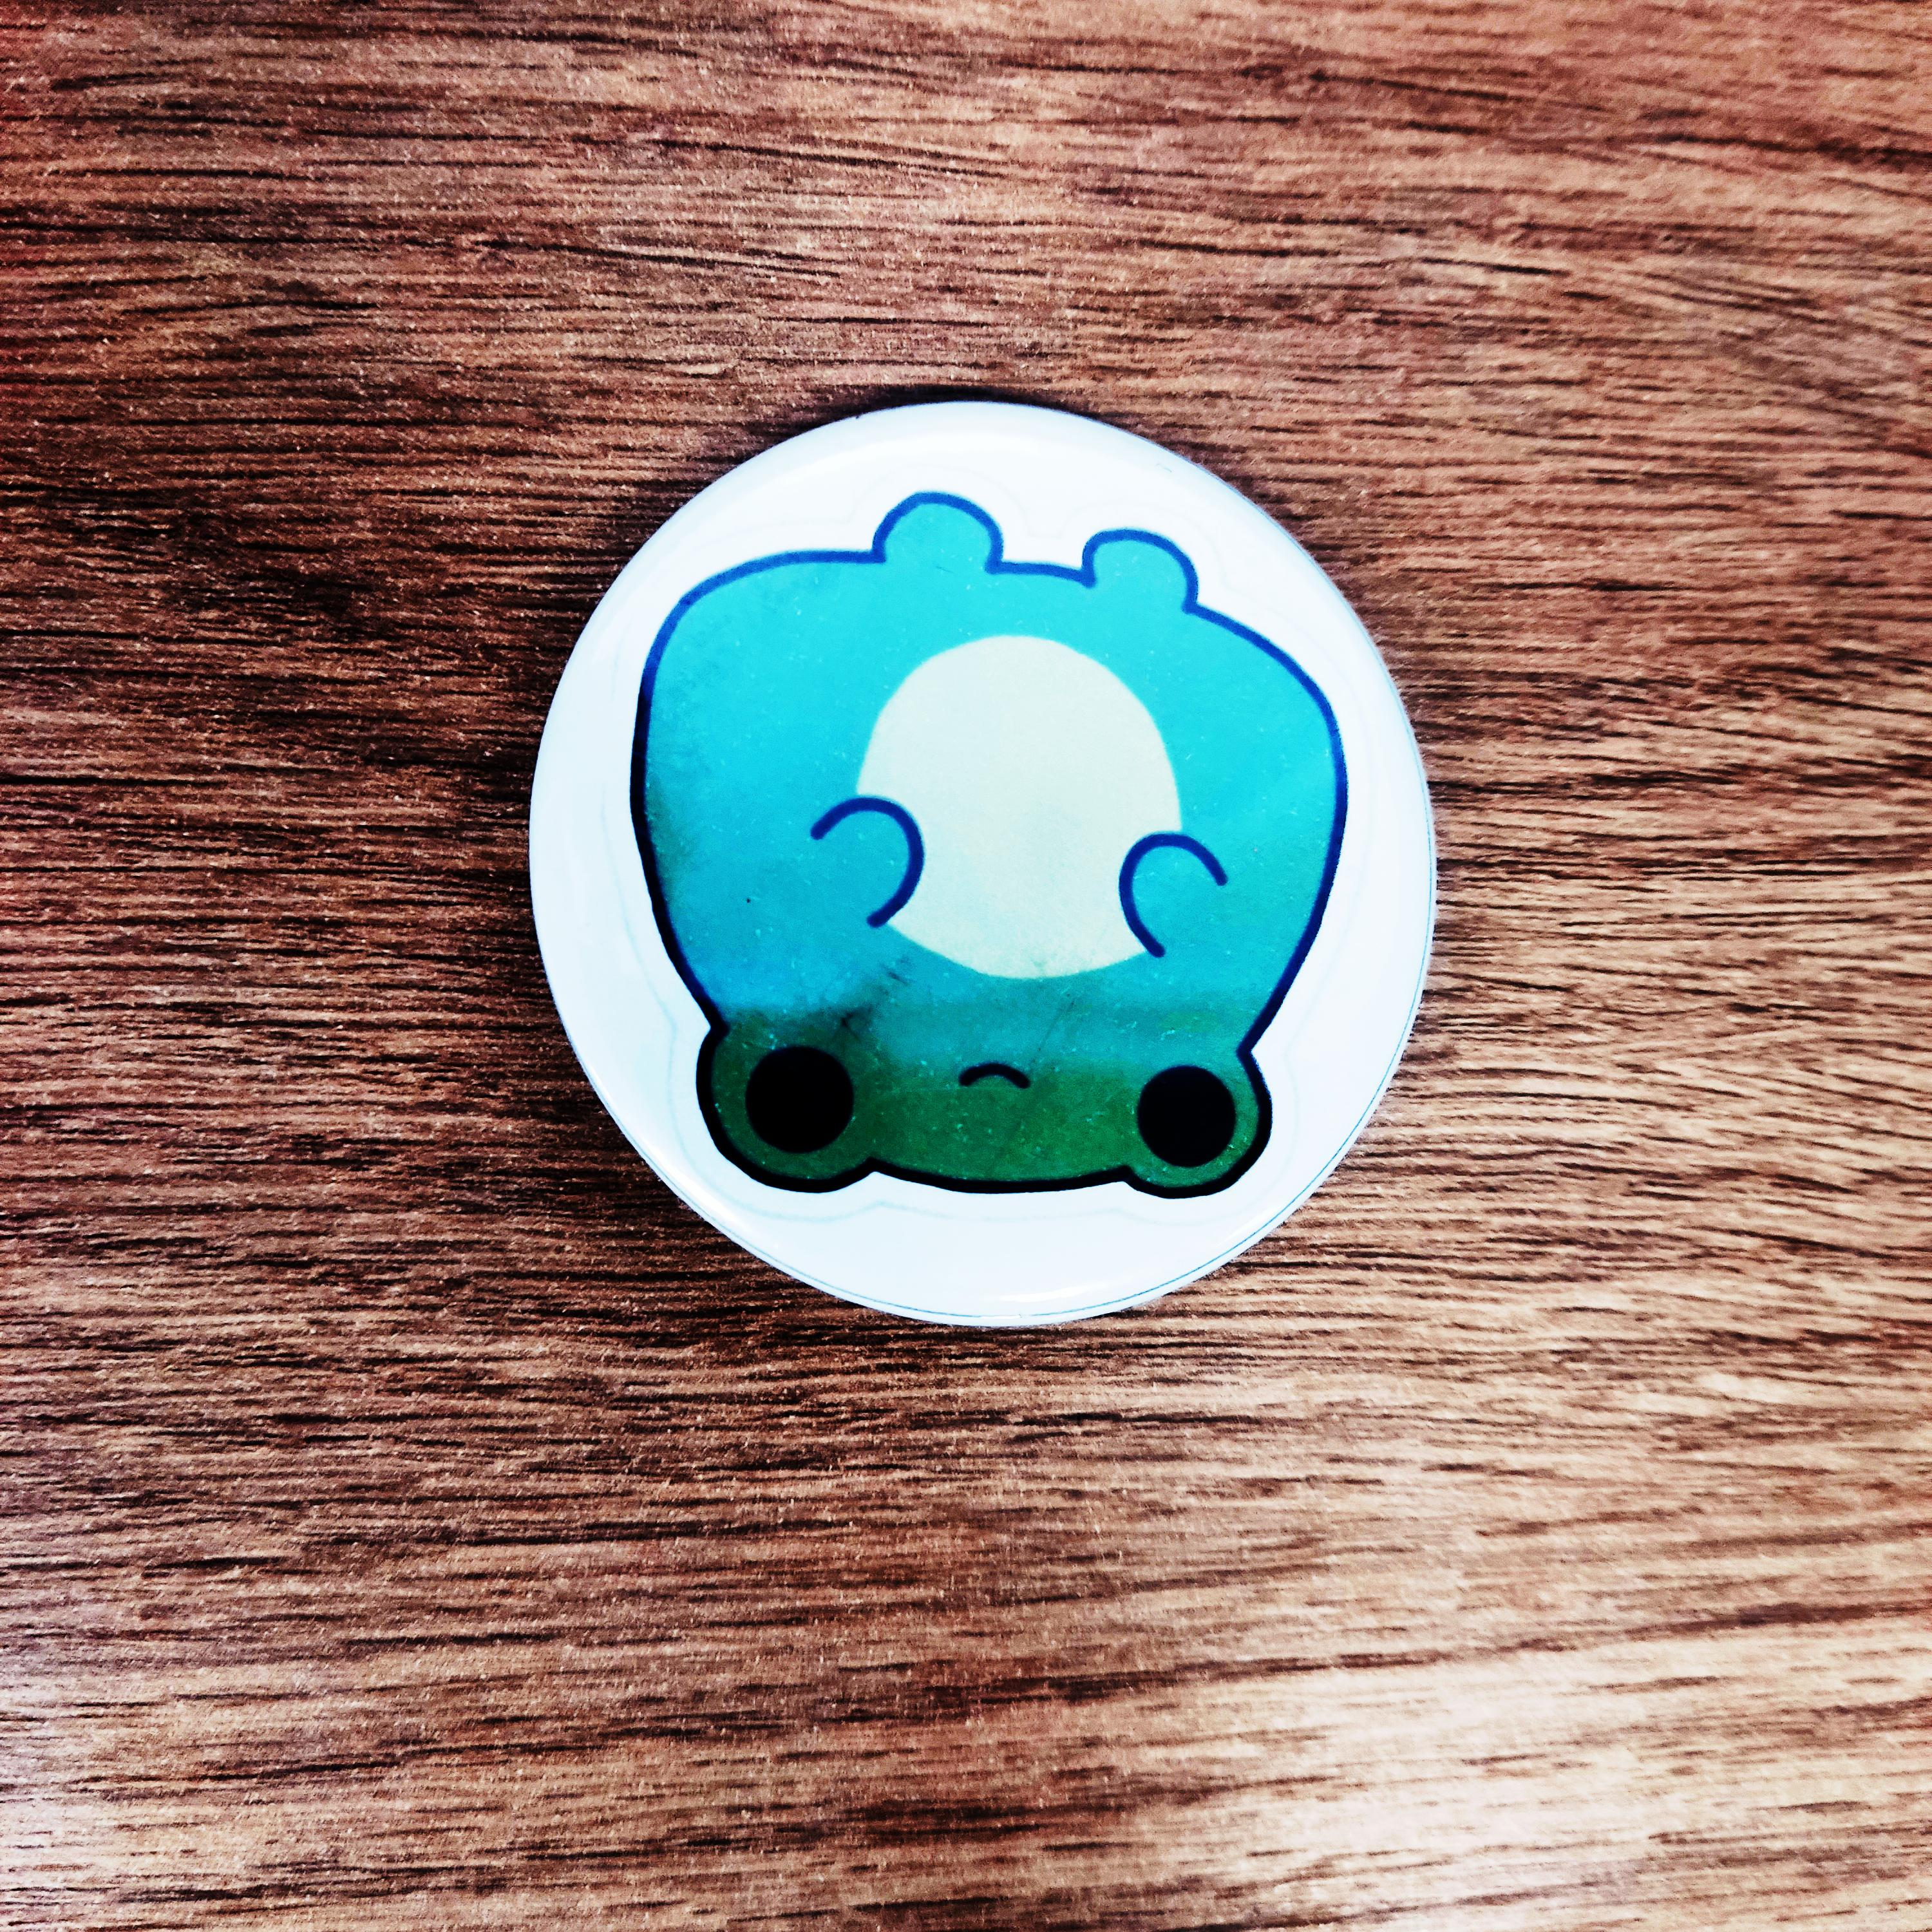pin: (527, 356, 1460, 1355)
